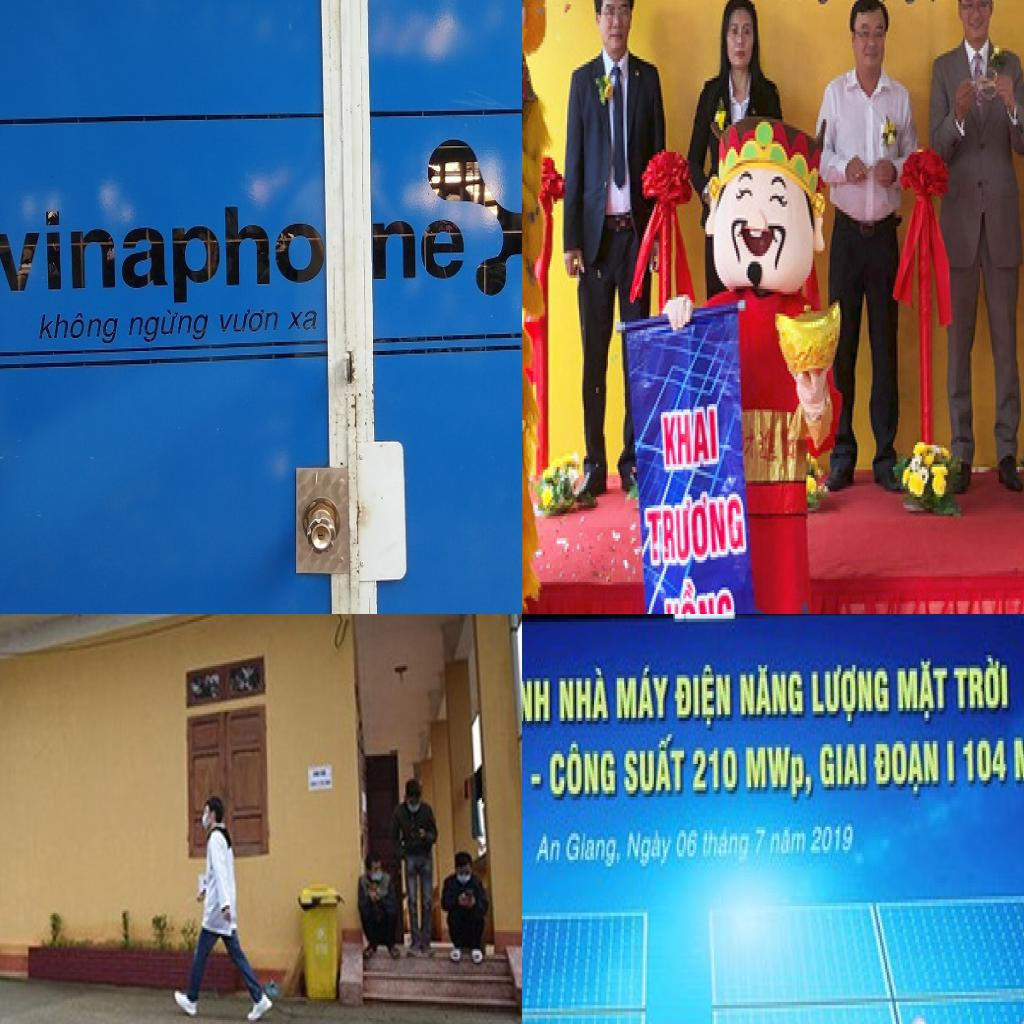text: (0, 197, 325, 311), (644, 489, 748, 571), (371, 213, 469, 287), (810, 665, 892, 728), (658, 401, 722, 475), (746, 744, 814, 804), (624, 734, 688, 797), (739, 662, 806, 721), (550, 741, 617, 800), (675, 665, 734, 731), (873, 741, 942, 797), (896, 658, 950, 724), (35, 309, 124, 347), (615, 665, 672, 724), (954, 655, 1011, 714), (661, 573, 741, 614), (125, 308, 211, 346), (558, 665, 612, 724), (818, 744, 870, 790), (961, 738, 1009, 787), (564, 833, 622, 873), (693, 747, 739, 797), (626, 830, 675, 873), (700, 827, 753, 866), (218, 306, 282, 336), (522, 668, 551, 727), (810, 824, 856, 856), (770, 827, 810, 856), (534, 834, 564, 866), (675, 827, 700, 863), (286, 308, 320, 332), (945, 741, 958, 787), (753, 827, 769, 860), (893, 0, 946, 9)
